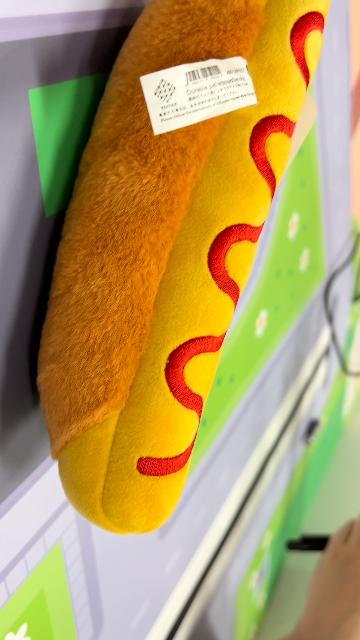hotdog: (35, 1, 331, 537)
